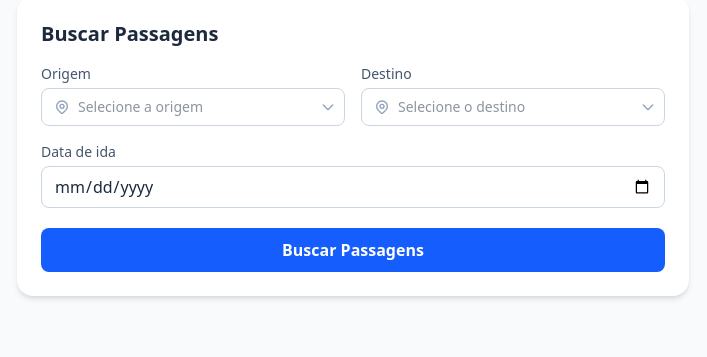
Test case: SearchForm › exibe erros quando os campos estão vazios
This screenshot has width=707, height=357.
Click the button "Buscar Passagens" at (353, 250), box 41,228 -> 665,272
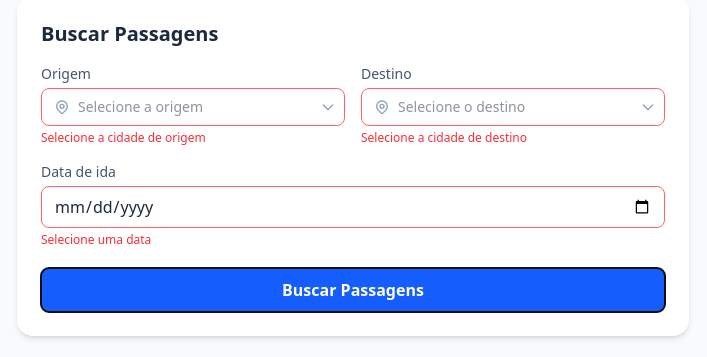
Result: the text "Selecione a cidade de origem" is shown at 41,129 -> 206,146
Result: the text "Selecione a cidade de destino" is shown at 361,129 -> 527,146
Result: the text "Selecione uma data" is shown at 41,231 -> 151,248
